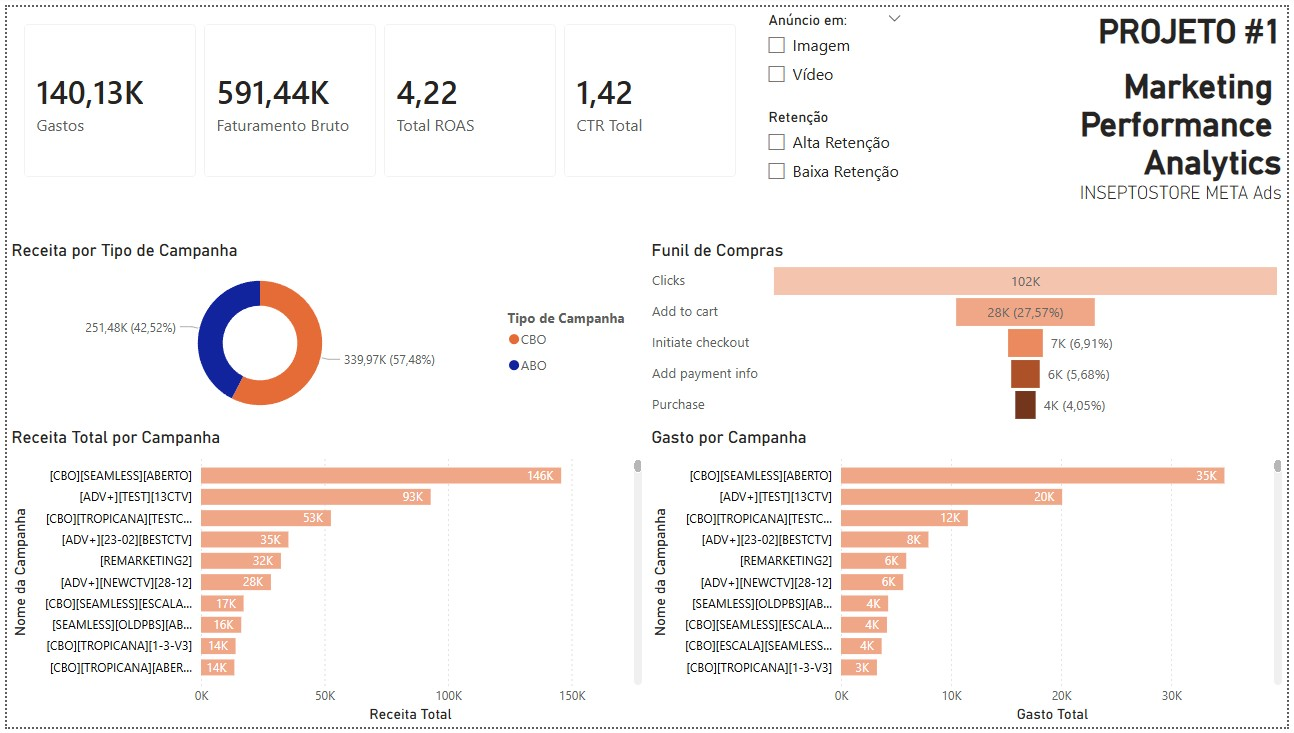

The dashboard page shown, as its layout file describes it:
{"tool":"powerbi","page":{"name":"Page 1","canvas":[1280,720],"ordinal":0},"visuals":[{"type":"cardVisual","fields":{"Data":["silver campaigns.Measure","silver campaigns.Measure 2","silver campaigns.Total ROAS","silver campaigns.CTR Total"]},"box":[0,0,748.9,186.7],"z":0},{"type":"slicer","fields":{"Values":["silver campaigns.Anúncio em:"]},"box":[748.9,0,157.8,96.7],"z":1},{"type":"slicer","fields":{"Values":["silver campaigns.Retenção"]},"box":[748.9,96.7,166.7,90],"z":2},{"type":"barChart","fields":{"Category":["silver campaigns.campaign_name"],"Y":["Sum(silver campaigns.revenue)"]},"box":[0,420,640,300],"z":3},{"type":"barChart","fields":{"Y":["Sum(silver campaigns.spend)"],"Category":["silver campaigns.campaign_name"]},"box":[640,420,640,300],"z":4},{"type":"donutChart","title":"Receita por Tipo de Campanha","fields":{"Category":["silver campaigns.adset_budget"],"Y":["Sum(silver campaigns.revenue)"]},"box":[0,233.3,640,186.7],"z":5},{"type":"funnel","title":"Funil de Compras","fields":{"Y":["Sum(silver campaigns.link_clicks)","Sum(silver campaigns.add_to_cart)","Sum(silver campaigns.checkout_initiated)","Sum(silver campaigns.payment_info_added)","Sum(silver campaigns.results)"]},"box":[640,233.3,640,186.7],"z":6},{"type":"textbox","box":[915.6,0,364.4,212.2],"z":7}]}

Visuals, with their boxes in screenshot pixels (x1, y1, x2, y2), scaled from the page's 1280x720 canvas onto the 1294x733 screenshot:
cardVisual - silver campaigns.Measure x silver campaigns.Measure 2: x1=0, y1=0, x2=757, y2=190
slicer - silver campaigns.Anúncio em:: x1=757, y1=0, x2=917, y2=98
slicer - silver campaigns.Retenção: x1=757, y1=98, x2=926, y2=190
barChart - silver campaigns.campaign_name x Sum(silver campaigns.revenue): x1=0, y1=428, x2=647, y2=732
barChart - Sum(silver campaigns.spend) x silver campaigns.campaign_name: x1=647, y1=428, x2=1293, y2=732
"Receita por Tipo de Campanha" donutChart: x1=0, y1=238, x2=647, y2=428
"Funil de Compras" funnel: x1=647, y1=238, x2=1293, y2=428
textbox: x1=926, y1=0, x2=1293, y2=216
